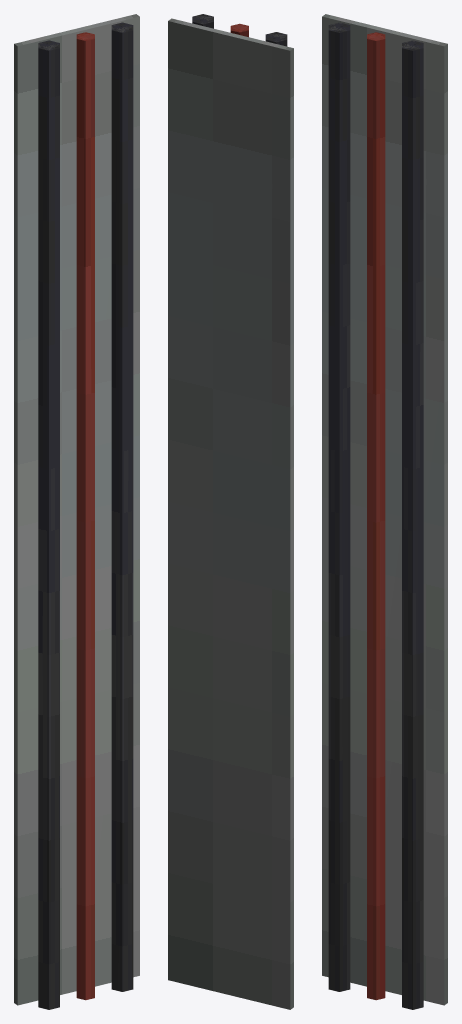
The model's file is cable_riser.glb.
3 views of the same model, side by side, from view 1: azimuth 30°, elevation 25°; view 2: azimuth 150°, elevation 25°; view 3: azimuth 330°, elevation 25° (orthographic).
Parts seen in each view (by area): view 1: cable_riser; view 2: cable_riser; view 3: cable_riser.
Boxes of the visible parts, x1=… form: cable_riser: x1=14, y1=14, x2=139, y2=1009; cable_riser: x1=168, y1=14, x2=293, y2=1009; cable_riser: x1=322, y1=14, x2=447, y2=1009.
Size of the model in its own units: 0.4 by 3 by 0.0903.
1 material, 1 textured.
